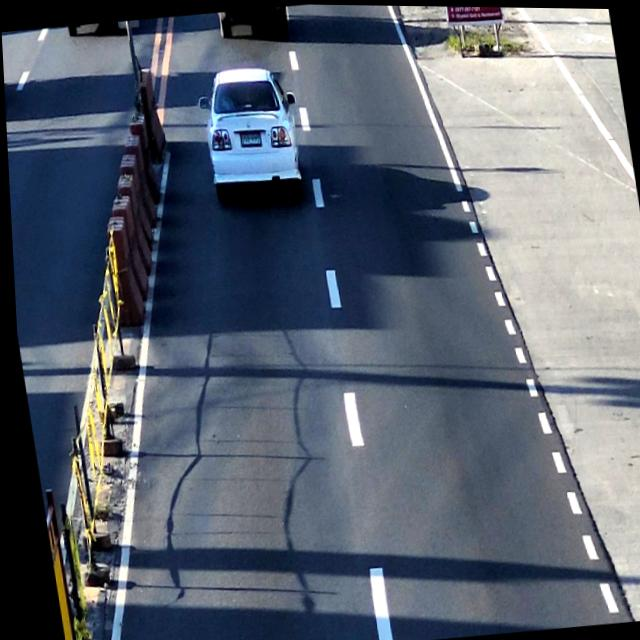Car: (192, 61, 307, 208)
License-Plate: (236, 128, 260, 149)
